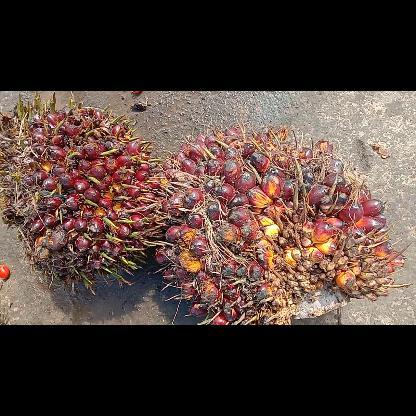Kurang masak: (0, 90, 171, 294)
TBS masak: (155, 119, 411, 324)
